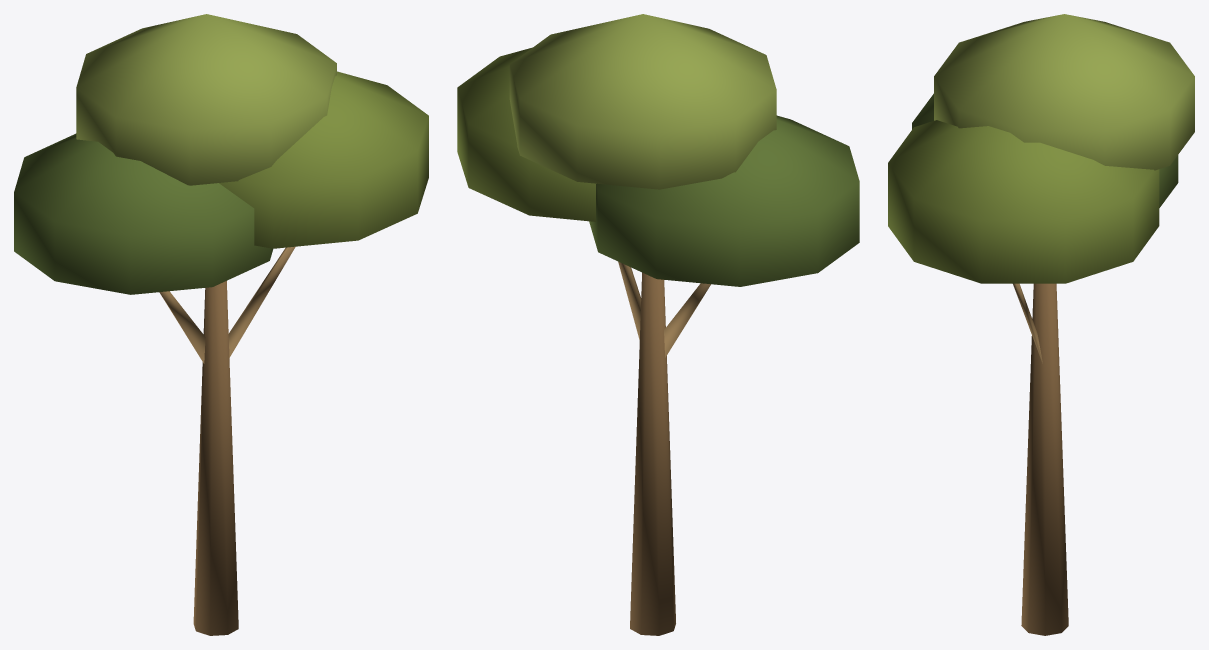
File: alc_tree_b_far.glb
3 views of the same model, side by side, from view 1: azimuth 30°, elevation 25°; view 2: azimuth 150°, elevation 25°; view 3: azimuth 270°, elevation 25° (orthographic). The views are drawn at different scales.
Parts seen in each view (by area): view 1: alc_tree_b_far; view 2: alc_tree_b_far; view 3: alc_tree_b_far.
Part boxes in pixels (x1=…): alc_tree_b_far: x1=14, y1=14, x2=428, y2=635; alc_tree_b_far: x1=457, y1=14, x2=859, y2=635; alc_tree_b_far: x1=888, y1=14, x2=1194, y2=635.
Size of the model in its own units: 3.94 by 6.28 by 2.85.
